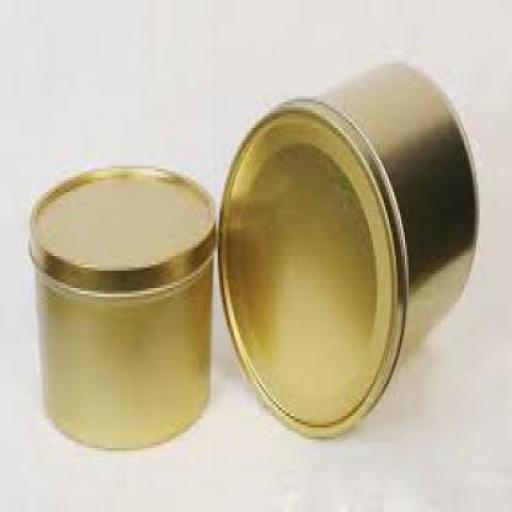metal: (218, 55, 481, 436), (30, 160, 217, 450)
